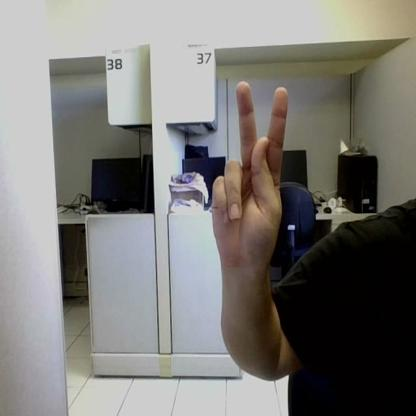K: (212, 82, 288, 264)
